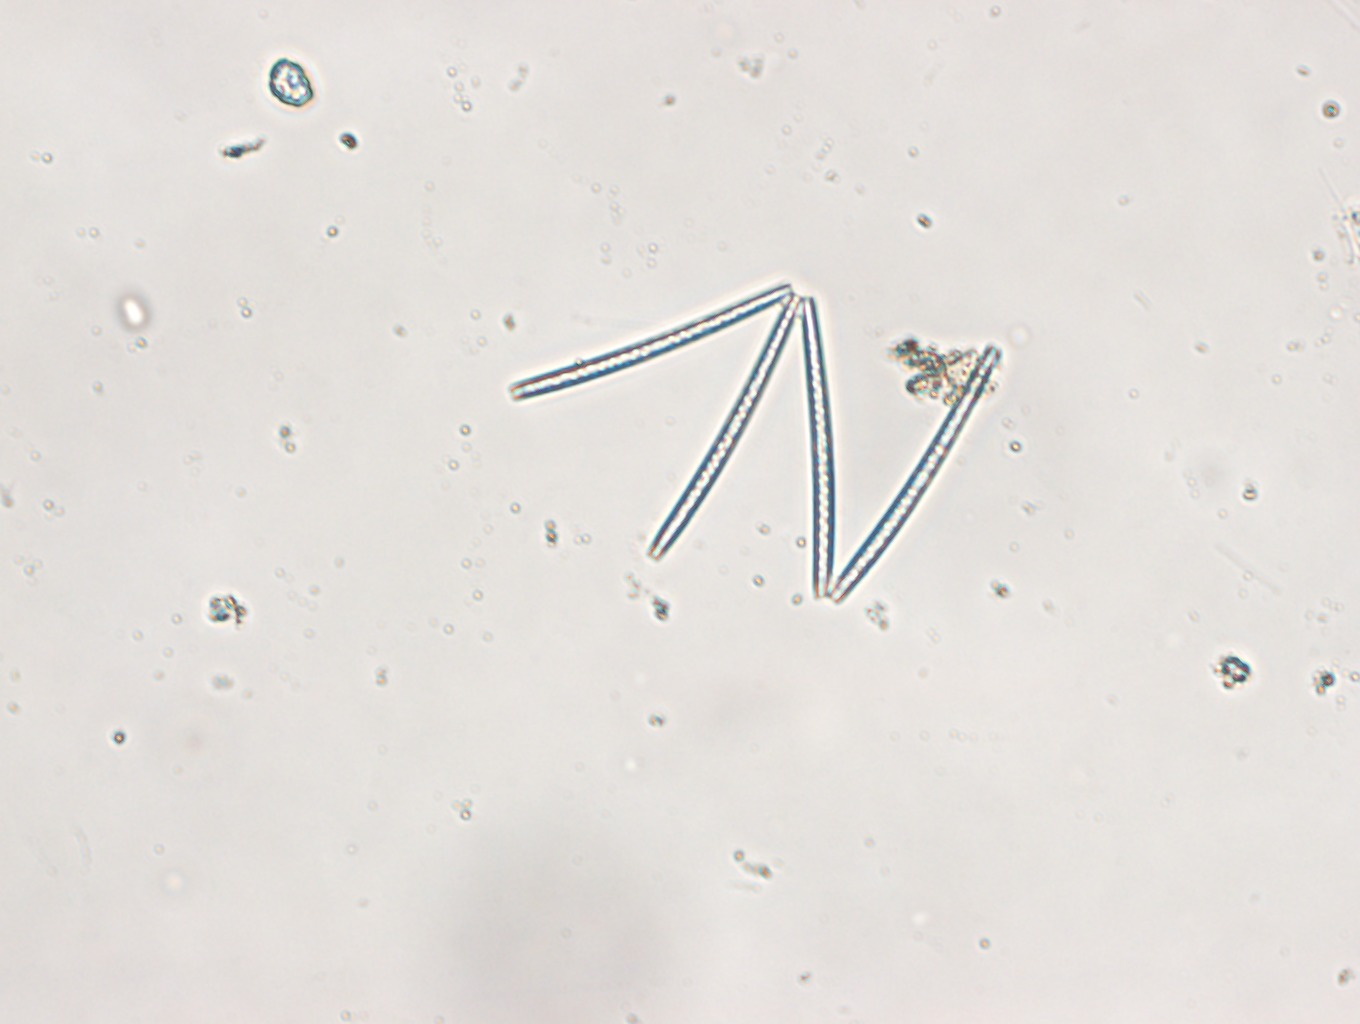thalassionema nitzschioides: (507, 282, 1004, 606)
